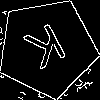K: (22, 22, 73, 78)
